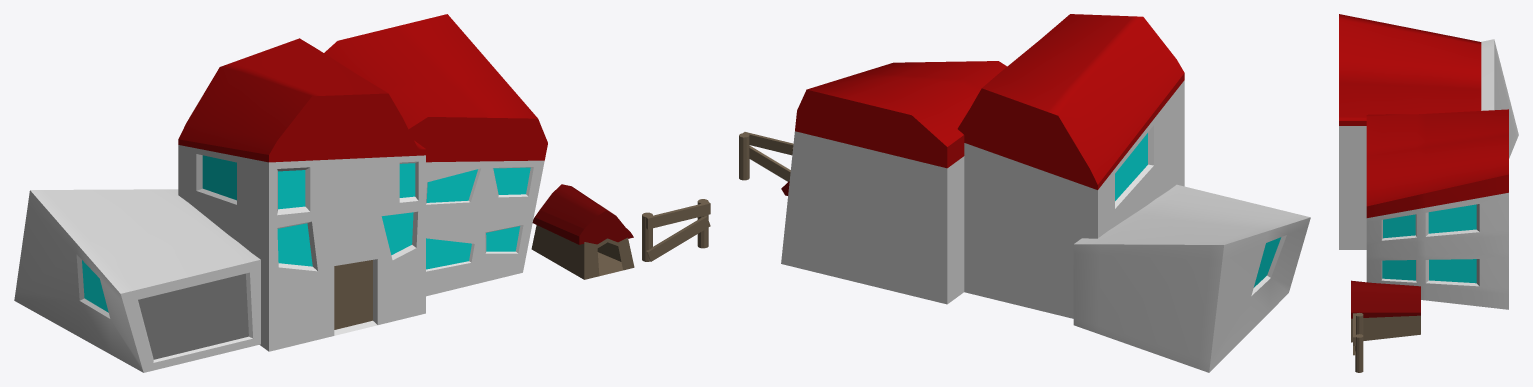
The model's file is Enviro_assets_02.fbx.
The picture shows the model from 3 angles, left to right: view 1: azimuth 30°, elevation 25°; view 2: azimuth 150°, elevation 25°; view 3: azimuth 270°, elevation 25°; orthographic projection. The views are drawn at different scales.
Visible parts, largest first — view 1: pCube4, kennel2, fence; view 2: pCube4, fence; view 3: pCube4, kennel2, fence.
Part boxes in pixels (x1,y1,x2,y2): pCube4: (14, 14, 547, 372); kennel2: (531, 184, 634, 279); fence: (642, 199, 710, 261); pCube4: (781, 14, 1310, 372); fence: (739, 132, 793, 181); pCube4: (1339, 14, 1518, 309); kennel2: (1351, 280, 1420, 342); fence: (1353, 313, 1363, 372).
Bounding box in the file's own units: 22.53 × 9.37 × 7.55.
